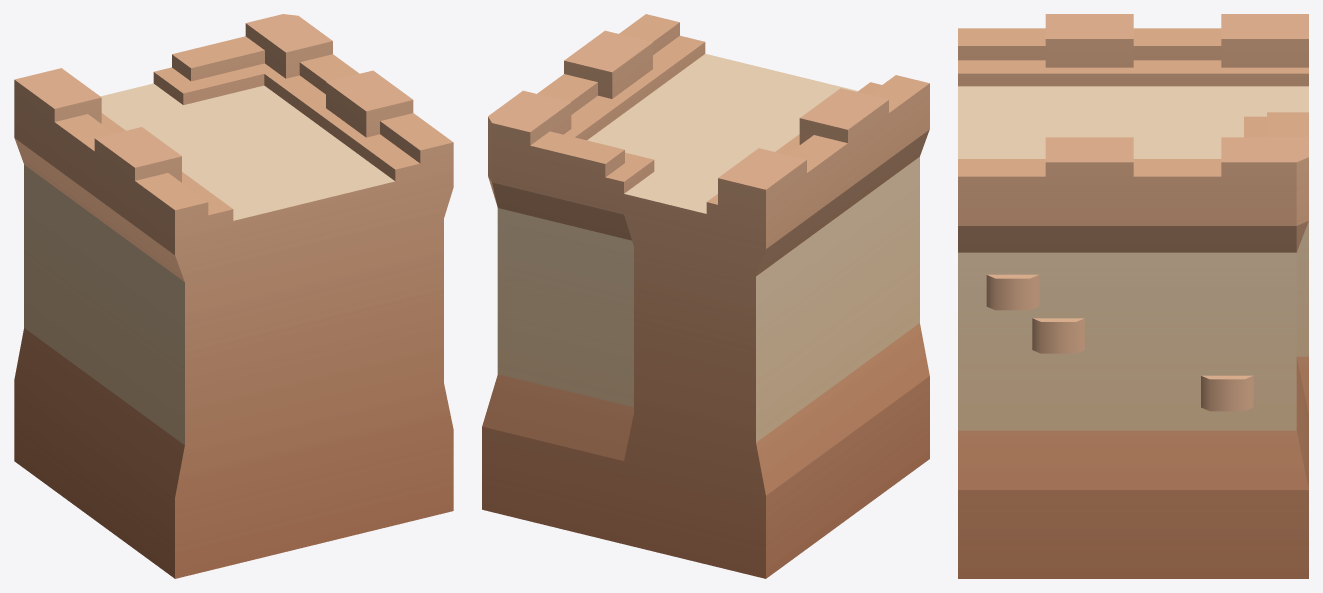
The model's file is wall-to-narrow.obj.
The picture shows the model from 3 angles, left to right: view 1: azimuth 30°, elevation 25°; view 2: azimuth 150°, elevation 25°; view 3: azimuth 270°, elevation 25°; orthographic projection. The views are drawn at different scales.
Visible parts, largest first — view 1: wall-to-narrow; view 2: wall-to-narrow; view 3: wall-to-narrow.
Part boxes in pixels (box(x1,y1,x2,y2)): wall-to-narrow: box(14, 14, 453, 578); wall-to-narrow: box(482, 14, 929, 578); wall-to-narrow: box(958, 14, 1308, 578).
Bounding box in the file's own units: 1 × 1.31 × 1.
Materials: 1 (1 with a texture image).
